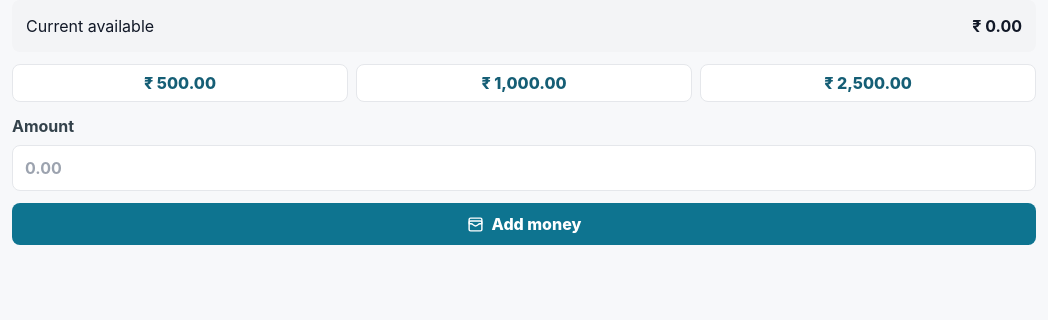
Scenario: LoadBalanceForm › clears stale amount errors when the amount changes
The image size is (1048, 320).
Click the button "Add money": point(524, 224) x1=12 y1=203 x2=1036 y2=245
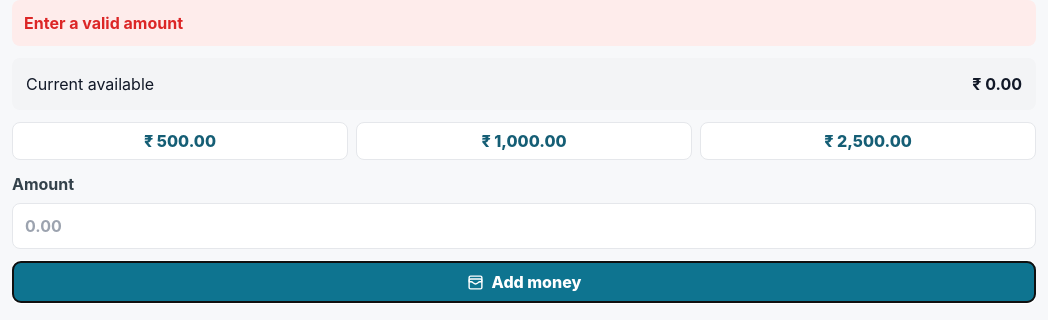
Expected: the text "Enter a valid amount" is shown, x1=12 y1=0 x2=1036 y2=46
In the field labelled "Amount": point(524, 226) x1=12 y1=203 x2=1036 y2=249, type "500"
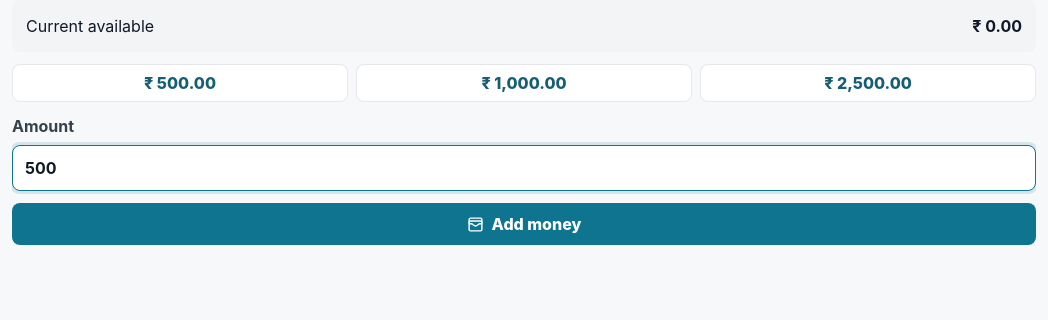
Expected: the text "Enter a valid amount" is gone
